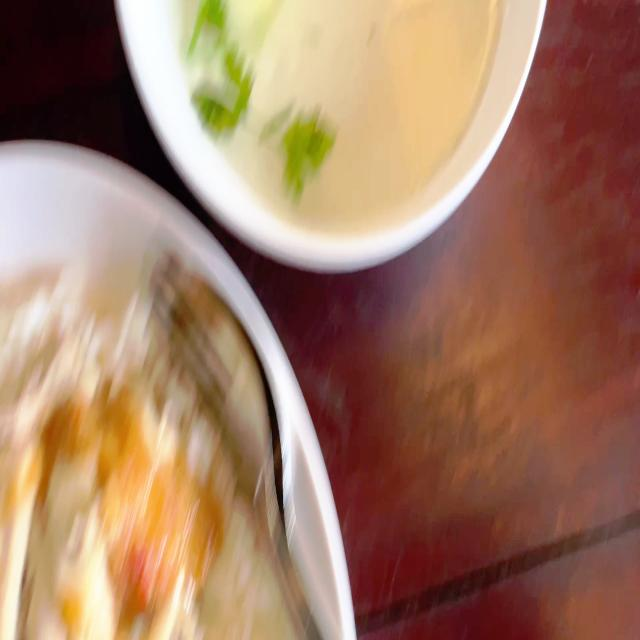boiled_chicken: (0, 371, 188, 638)
chicken_rice: (0, 259, 283, 640)
